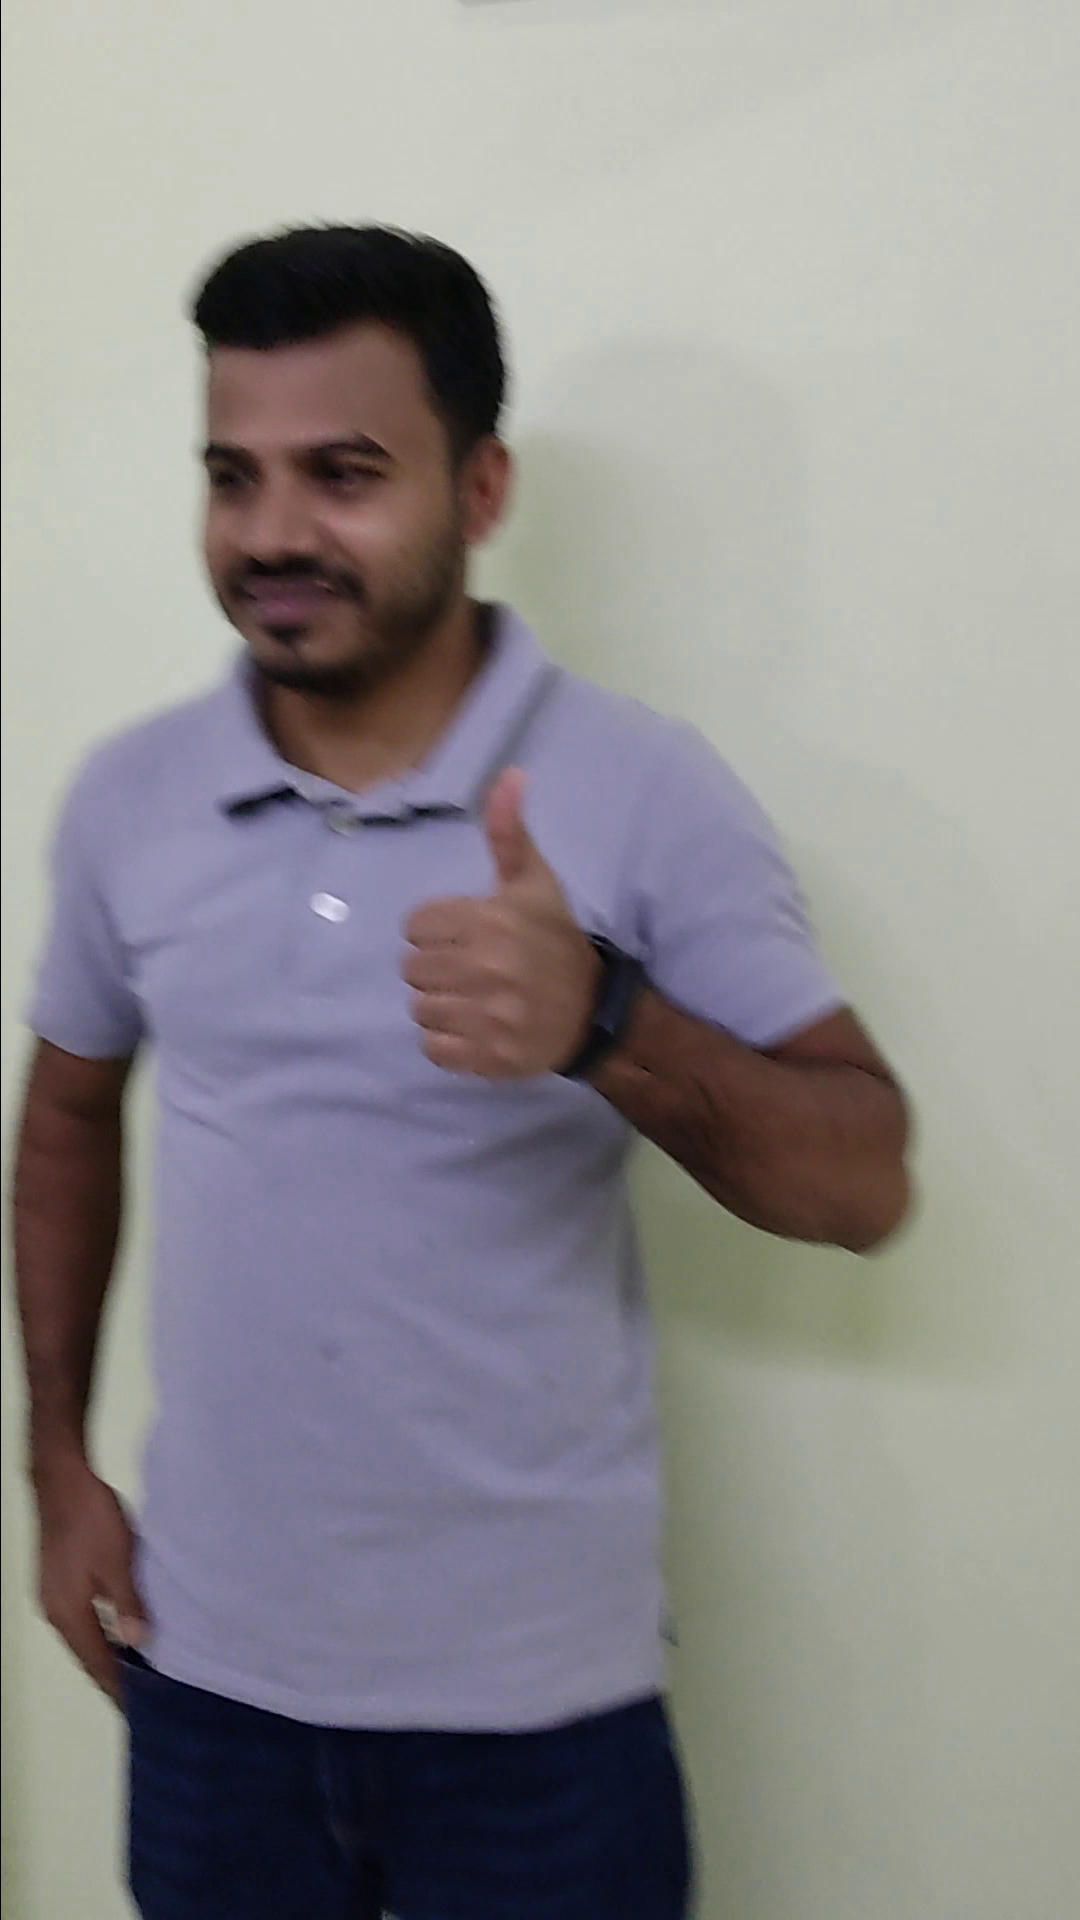Like: (382, 760, 621, 1098)
None: (20, 1432, 152, 1717)
